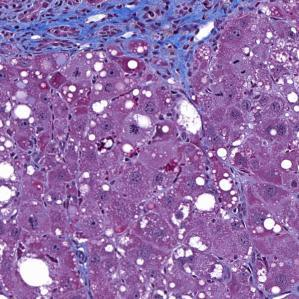fibrosis: (7, 5, 224, 65)
